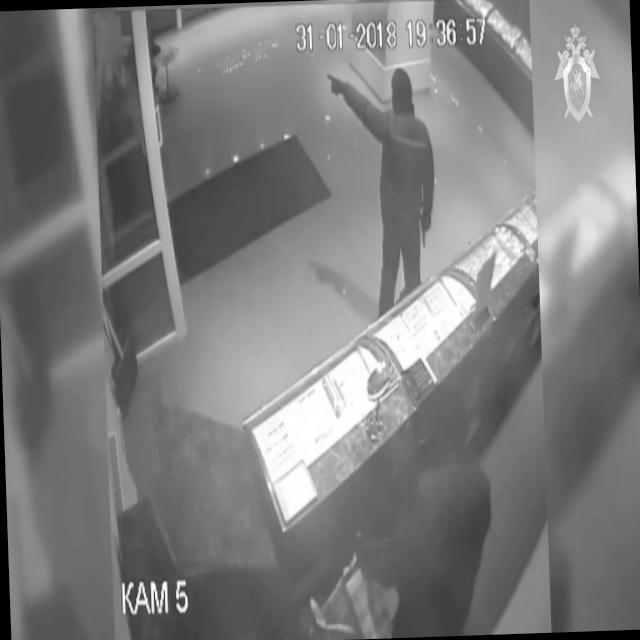gun: (419, 213, 432, 249)
person with a gun: (326, 66, 440, 320)
